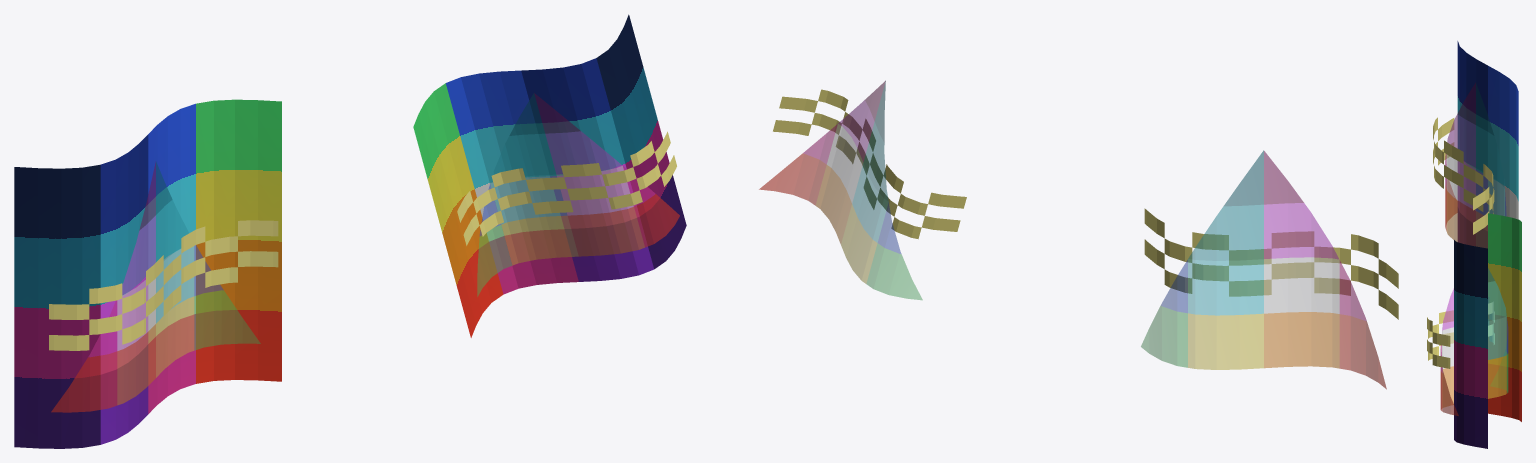
Rendered from model-loader.gltf.
3 views of the same model, side by side, from view 1: azimuth 30°, elevation 25°; view 2: azimuth 150°, elevation 25°; view 3: azimuth 270°, elevation 25° (orthographic). The views are drawn at different scales.
Parts seen in each view (by area): view 1: primary, mirrored; view 2: primary, mirrored; view 3: mirrored, primary.
Boxes of the visible parts, x1,y1,x2,y2 form: primary: (14,99,281,448); mirrored: (413,14,686,337); primary: (1141,150,1398,389); mirrored: (759,80,966,299); mirrored: (1427,213,1521,448); primary: (1433,41,1518,248).
Size of the model in its own units: 4.52 by 1.84 by 0.7.
3 materials, 3 textured.
